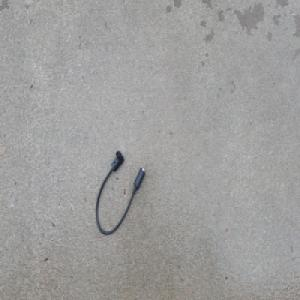Wire: (95, 149, 145, 235)
